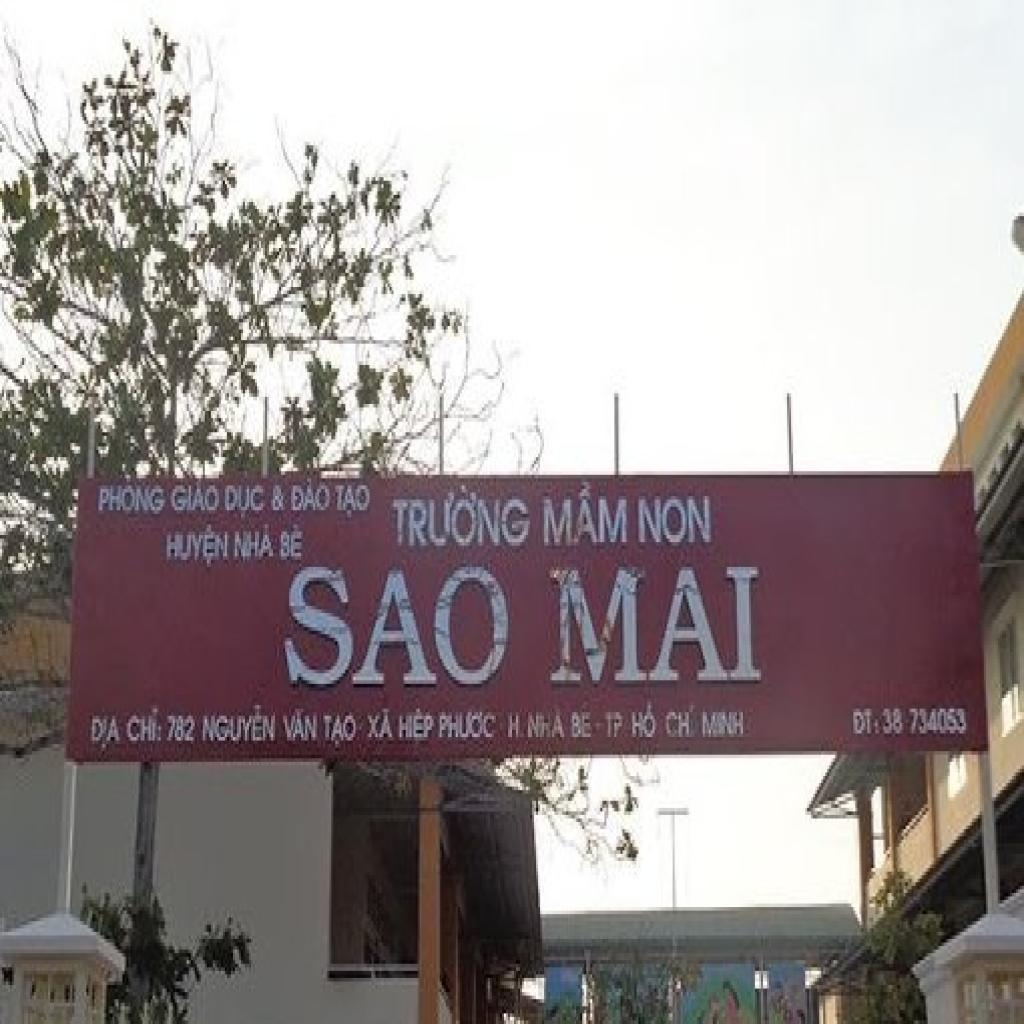text: (279, 560, 512, 694), (546, 563, 765, 691), (390, 482, 534, 553), (542, 478, 631, 553), (636, 493, 715, 549), (165, 521, 233, 574), (201, 702, 279, 748), (96, 478, 169, 521), (438, 709, 500, 744), (169, 478, 223, 518), (233, 521, 279, 567), (223, 482, 269, 524), (289, 475, 333, 517), (124, 705, 164, 751), (279, 705, 321, 748), (398, 705, 438, 748), (334, 482, 374, 524), (701, 709, 747, 744), (90, 712, 124, 758), (322, 712, 360, 751), (526, 709, 568, 744), (277, 521, 307, 567), (366, 705, 398, 748), (630, 702, 660, 744), (164, 712, 198, 748), (852, 705, 882, 741), (662, 709, 692, 744), (570, 709, 594, 744), (602, 709, 626, 744), (269, 482, 289, 521), (506, 709, 528, 744)
